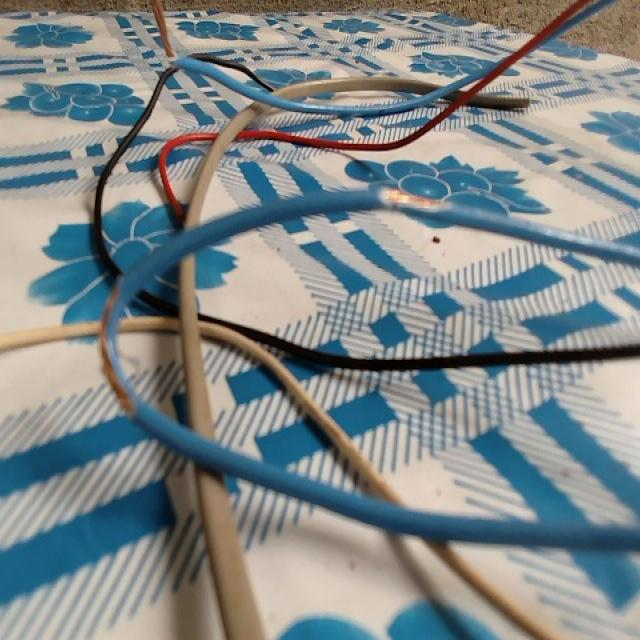-: (95, 278, 141, 422), (377, 181, 451, 219), (149, 0, 176, 56)
